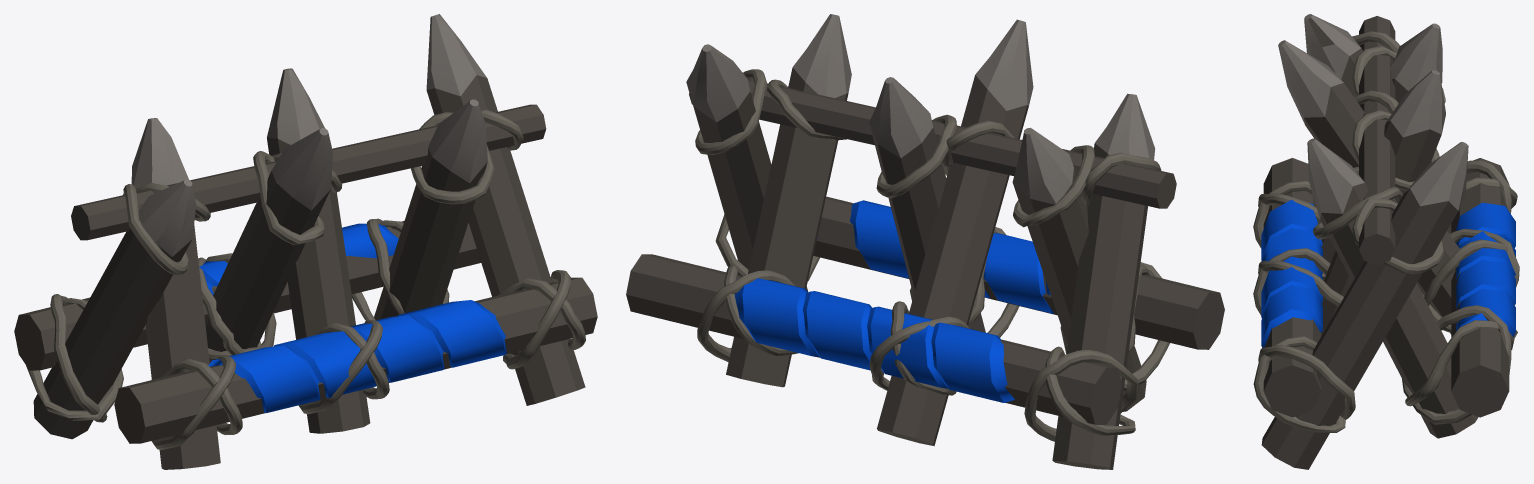
The model's file is fence.fbx.
3 views of the same model, side by side, from view 1: azimuth 30°, elevation 25°; view 2: azimuth 150°, elevation 25°; view 3: azimuth 270°, elevation 25° (orthographic). The views are drawn at different scales.
Visible parts, largest first — view 1: polySurface35; view 2: polySurface35; view 3: polySurface35.
Boxes of the visible parts, box(x1,y1,x2,y2) form: polySurface35: box(14, 14, 597, 469); polySurface35: box(626, 14, 1224, 469); polySurface35: box(1253, 14, 1519, 469).
Size of the model in its own units: 275 by 195 by 147.
